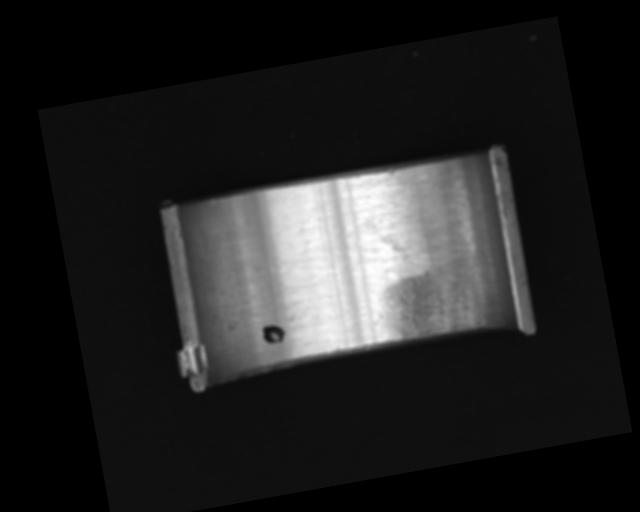blot: (260, 322, 287, 346)
bruise: (386, 166, 397, 177)
scratch: (371, 261, 489, 345)
